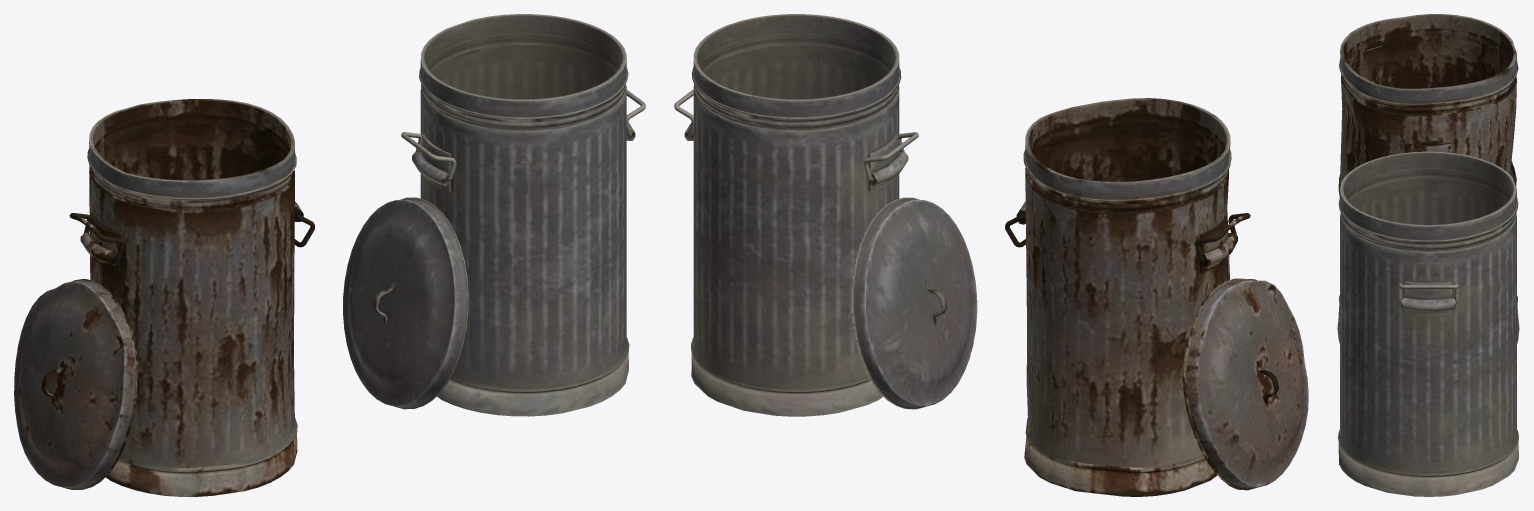
Rendered from metal-trash-can.glb.
The picture shows the model from 3 angles, left to right: view 1: azimuth 30°, elevation 25°; view 2: azimuth 150°, elevation 25°; view 3: azimuth 270°, elevation 25°; orthographic projection. The views are drawn at different scales.
Visible parts, largest first — view 1: metal_trash_can, metal_trash_can_rust, metal_trash_can_lid, metal_trash_can_rust_lid; view 2: metal_trash_can, metal_trash_can_rust, metal_trash_can_lid, metal_trash_can_rust_lid; view 3: metal_trash_can, metal_trash_can_rust, metal_trash_can_handle_right.
Boxes of the visible parts, x1,y1,x2,y2 form: metal_trash_can: (412,14,635,416); metal_trash_can_rust: (80,99,303,496); metal_trash_can_lid: (343,197,468,409); metal_trash_can_rust_lid: (14,279,137,489); metal_trash_can: (684,14,908,416); metal_trash_can_rust: (1016,98,1237,496); metal_trash_can_lid: (851,197,977,409); metal_trash_can_rust_lid: (1183,278,1308,490); metal_trash_can: (1337,151,1518,496); metal_trash_can_rust: (1338,14,1518,316); metal_trash_can_handle_right: (1398,283,1458,303).
Bounding box in the file's own units: 1.78 × 0.9062 × 0.5543.
Materials: 2 (2 with a texture image).
